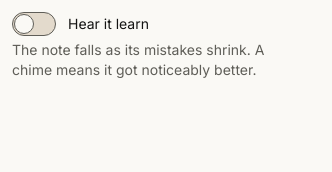
Test: the sound of learning › says so where sound cannot play
What coordinates should you click on to do the following:
click the switch named "Hear it learn"
I would click on:
 (34, 24)
Its box is 12,12 -> 56,36.
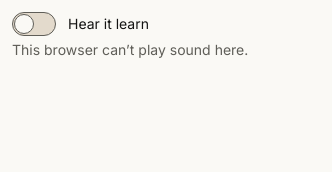
Check: the message shows "can’t play sound", box 12,41 -> 248,58
